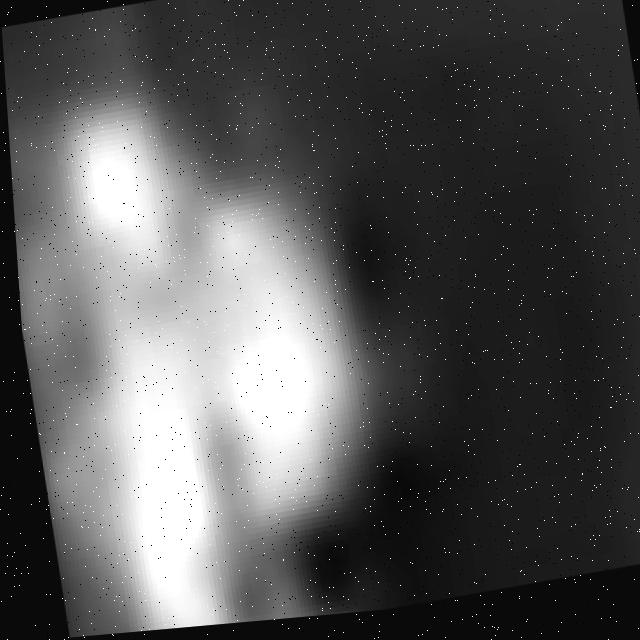person: (26, 106, 254, 640), (164, 128, 397, 621)
